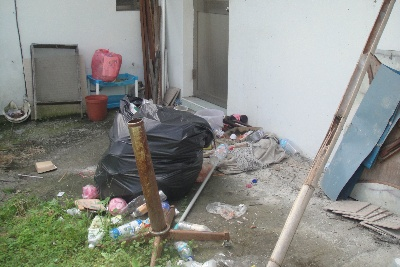bottle: (109, 217, 145, 238), (87, 214, 105, 251), (173, 240, 193, 260), (277, 136, 298, 154)
box: (34, 161, 57, 173)
bucket: (84, 94, 108, 122), (195, 108, 225, 129)
plastic_bag: (94, 101, 203, 196), (91, 50, 122, 81), (207, 202, 248, 220)
